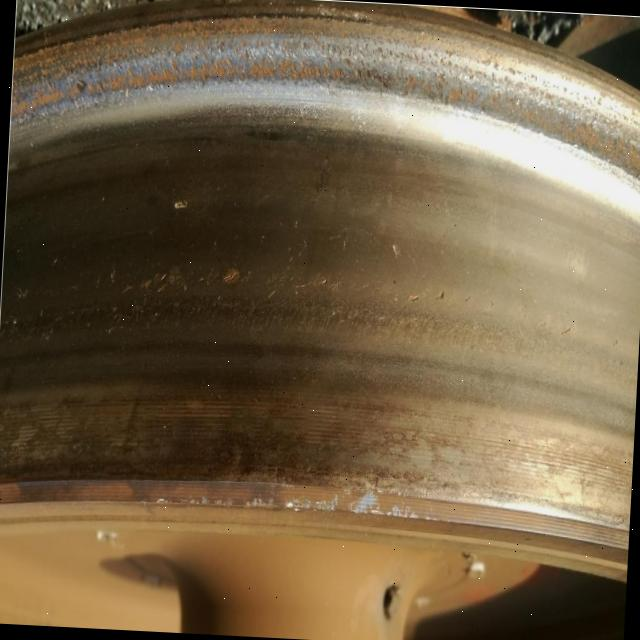Contact_Fatigue_Cracks: (222, 269, 246, 289), (173, 199, 190, 212), (561, 325, 575, 340), (433, 289, 446, 305), (411, 294, 422, 305), (464, 293, 473, 305), (321, 279, 330, 289), (162, 275, 170, 283)
